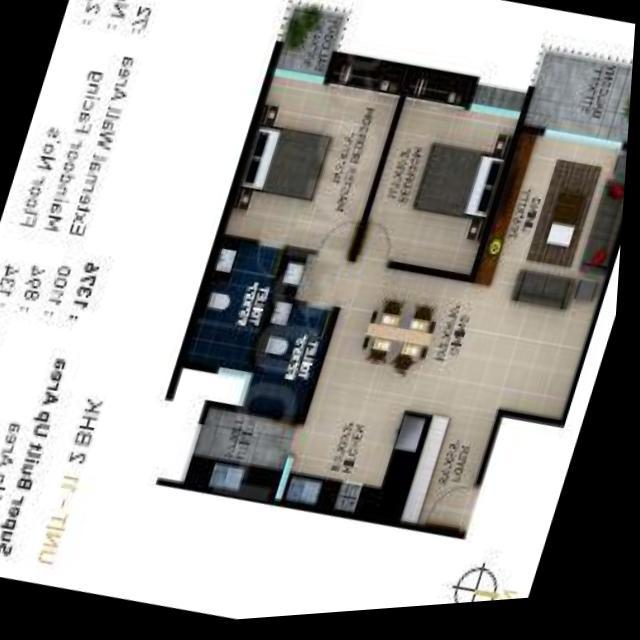Balcony-Sitout: (521, 53, 634, 157), (272, 5, 351, 86)
Bedroom: (359, 98, 526, 284)
Bedroom with Toilet: (188, 76, 407, 377)
Dining: (350, 296, 454, 384)
Enterance-Foyer: (404, 409, 509, 542)
Kitchen: (283, 395, 434, 529)
Living: (441, 137, 630, 433)
Toilet: (192, 240, 292, 372), (251, 303, 342, 421)
Utility: (187, 405, 306, 506)
